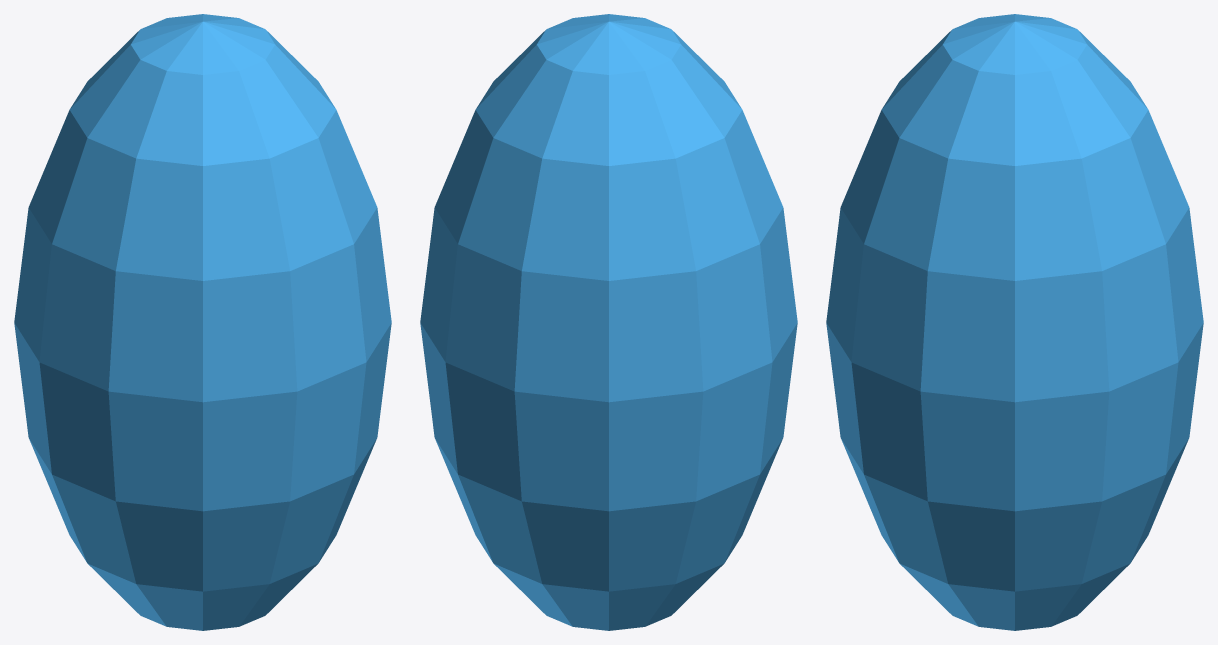
The model's file is PF_PlayerCapsuleReference.fbx.
3 views of the same model, side by side, from view 1: azimuth 30°, elevation 25°; view 2: azimuth 150°, elevation 25°; view 3: azimuth 270°, elevation 25° (orthographic).
Parts seen in each view (by area): view 1: PlayerPreview_01_Capsule; view 2: PlayerPreview_01_Capsule; view 3: PlayerPreview_01_Capsule.
Boxes of the visible parts, <box> form: PlayerPreview_01_Capsule: <box>14,14,391,630</box>; PlayerPreview_01_Capsule: <box>420,14,797,630</box>; PlayerPreview_01_Capsule: <box>826,14,1203,630</box>.
Bounding box in the file's own units: 1.16 × 2.04 × 1.16.
